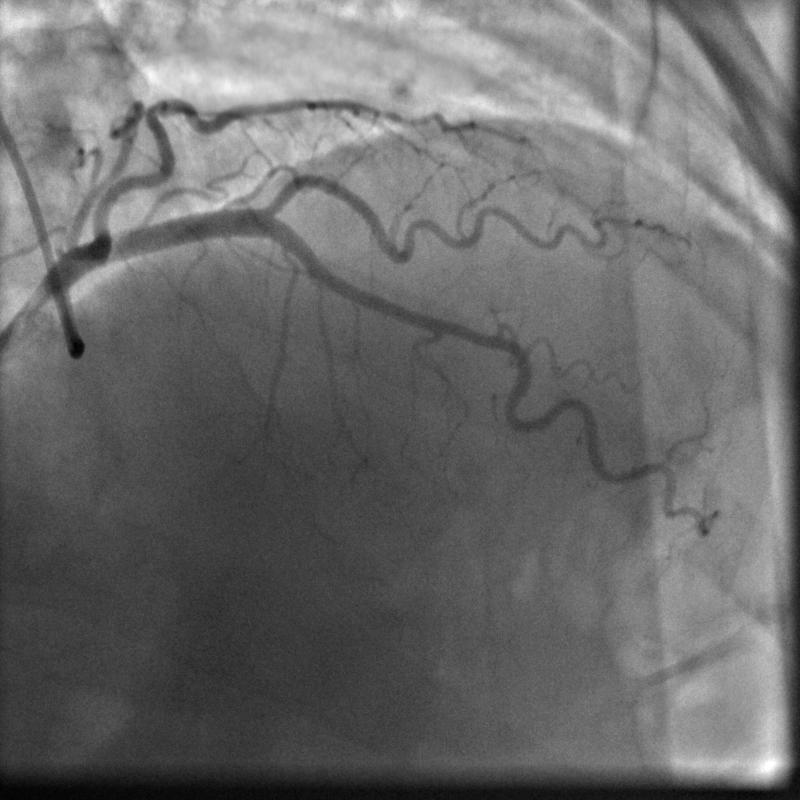Stenosis: (436, 316, 513, 348)
